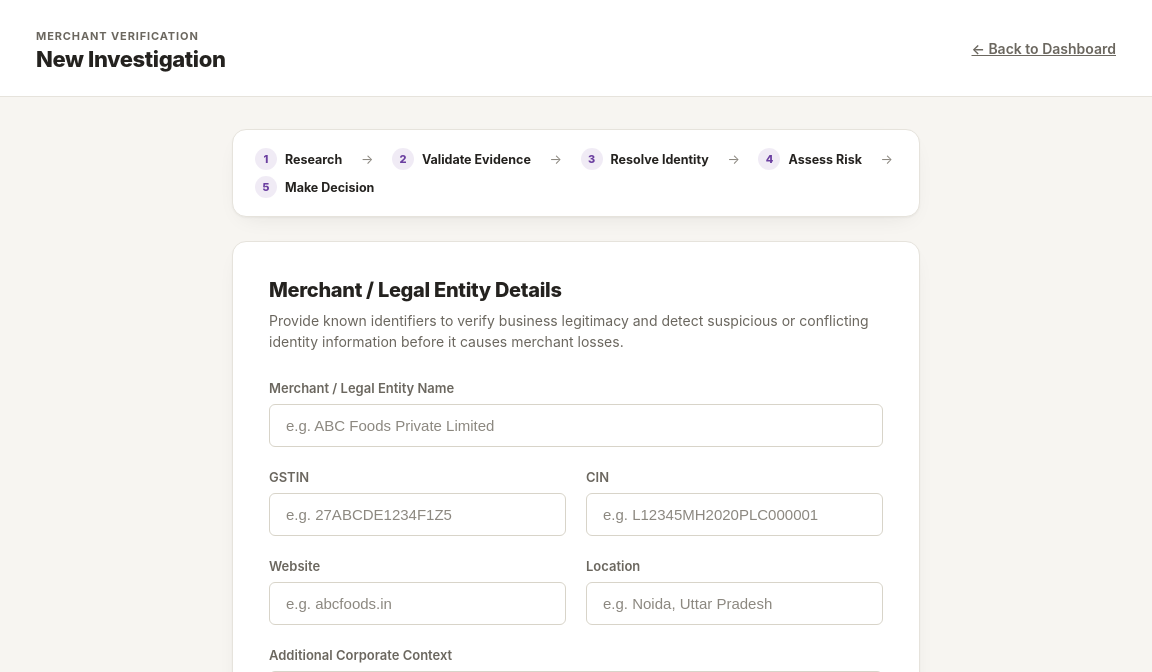
Scenario: BizRisk Frontend Component Tests › shows error message if API fails during launch
Step 1. Type "Invalid Corp" into the field labelled "Merchant / Legal Entity Name" → (576, 426), box [269, 404, 883, 447]
(page scrolled)
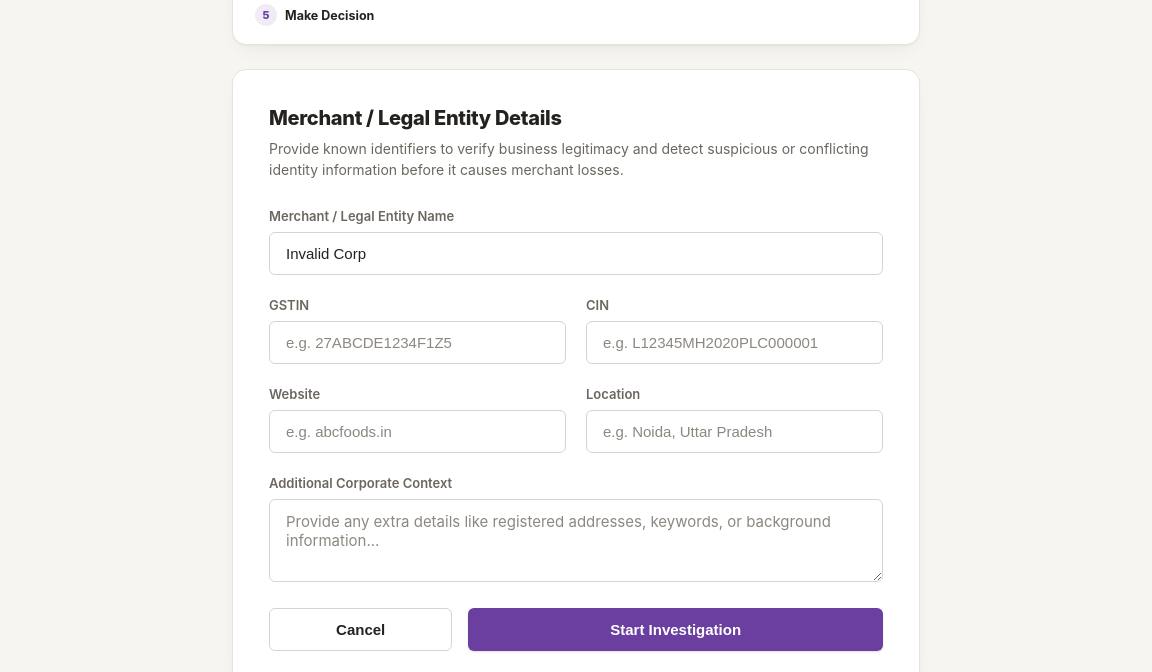
Step 2. Click the button "Start Investigation" → (676, 630), box [468, 608, 883, 651]
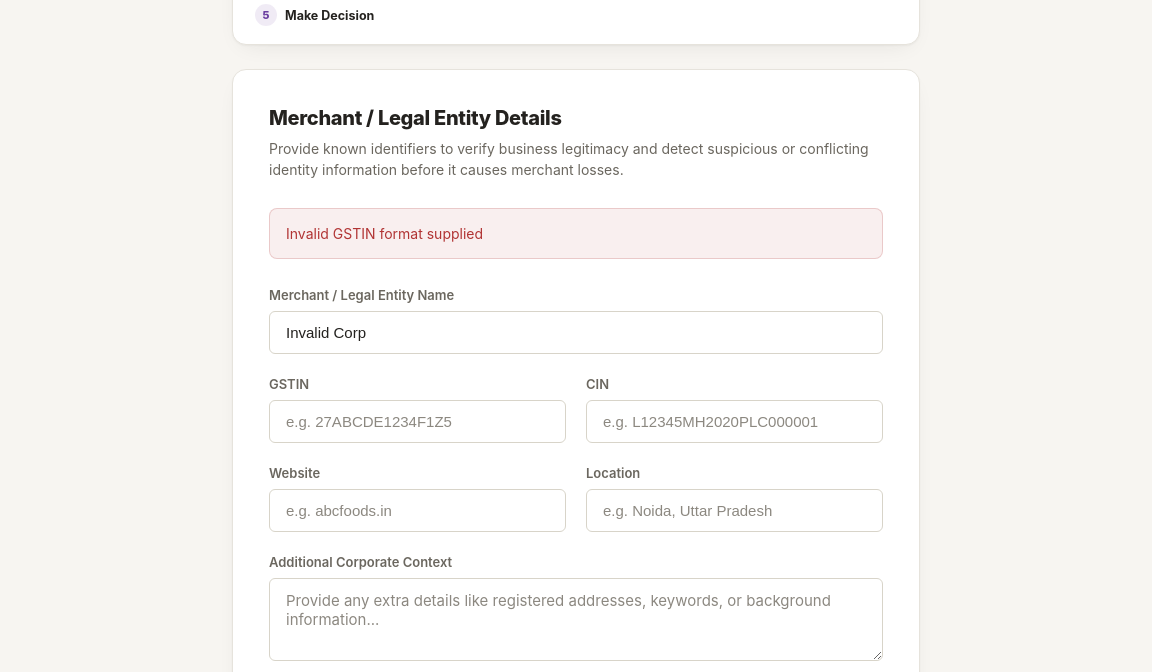
Now the text "Invalid GSTIN format supplied" is shown, box [269, 208, 883, 259]
